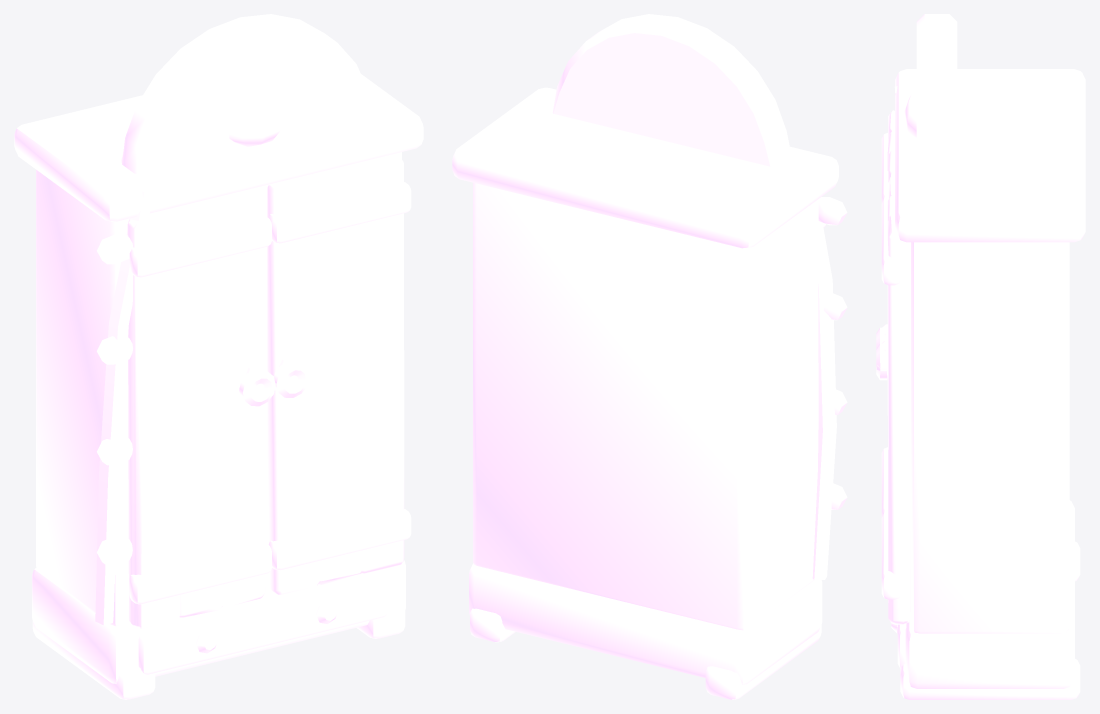
The model's file is wardrobe.gltf.
3 views of the same model, side by side, from view 1: azimuth 30°, elevation 25°; view 2: azimuth 150°, elevation 25°; view 3: azimuth 270°, elevation 25° (orthographic). The views are drawn at different scales.
Parts seen in each view (by area): view 1: HAUNT_static, HAUNT_wardrobe_door_L, HAUNT_wardrobe_door_R; view 2: HAUNT_static; view 3: HAUNT_static, HAUNT_wardrobe_door_R, HAUNT_wardrobe_door_L.
Part boxes in pixels (left/top/right/bottom): HAUNT_static: left=14, top=14, right=423, bottom=699; HAUNT_wardrobe_door_L: left=127, top=188, right=309, bottom=628; HAUNT_wardrobe_door_R: left=239, top=153, right=411, bottom=594; HAUNT_static: left=452, top=14, right=847, bottom=699; HAUNT_static: left=891, top=14, right=1085, bottom=699; HAUNT_wardrobe_door_R: left=876, top=175, right=910, bottom=624; HAUNT_wardrobe_door_L: left=876, top=110, right=894, bottom=517.
Size of what is drawn, in the model's own units: 1.35 by 2.52 by 0.7854.
